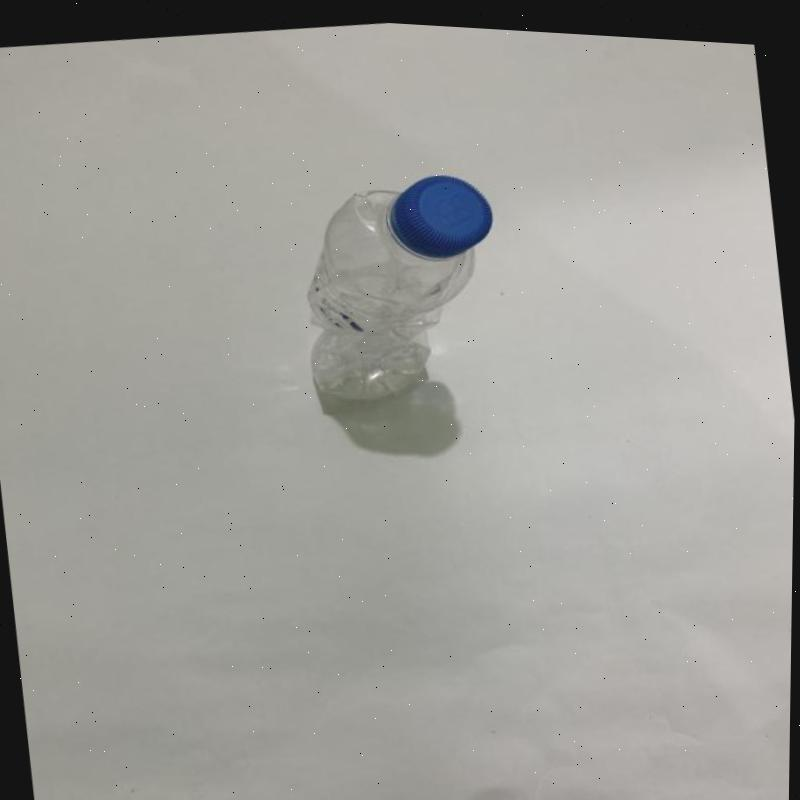botella: (287, 154, 514, 406)
